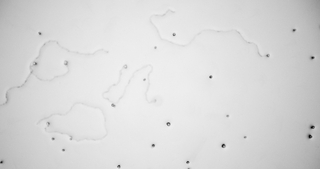germinated: (119, 62, 127, 70), (63, 59, 70, 68), (262, 51, 270, 58), (43, 120, 50, 128)
nongerminated: (306, 132, 313, 140), (164, 119, 171, 127), (207, 72, 214, 79), (291, 26, 298, 33), (309, 122, 316, 129), (170, 30, 177, 37), (150, 141, 157, 148), (185, 157, 191, 165), (309, 54, 316, 60), (219, 142, 225, 149), (152, 44, 159, 50), (37, 30, 43, 37), (31, 60, 38, 66), (225, 112, 231, 118), (110, 102, 116, 108), (50, 135, 56, 141), (242, 134, 247, 140), (61, 147, 66, 153), (116, 163, 121, 169)
